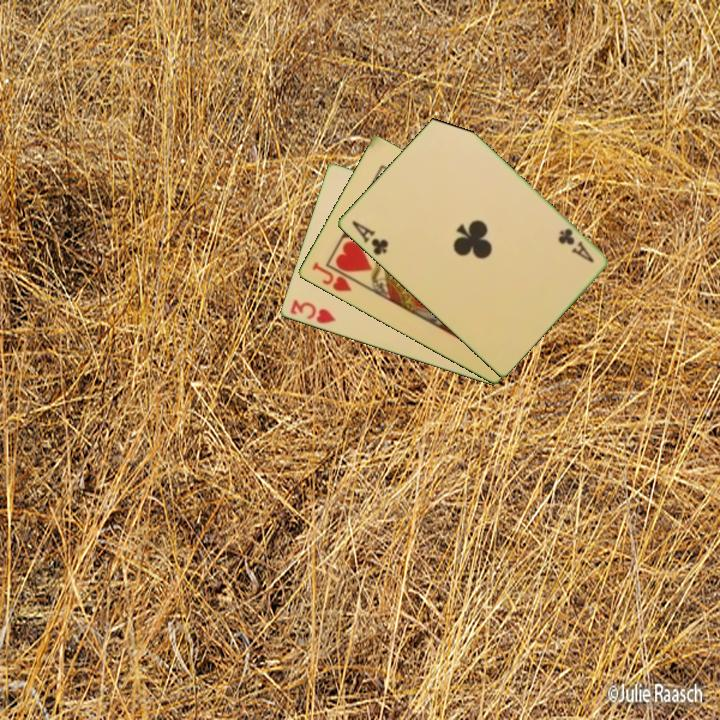3h: (286, 296, 338, 327)
Ac: (348, 217, 391, 258), (554, 225, 596, 266)
Jh: (308, 258, 354, 295)
